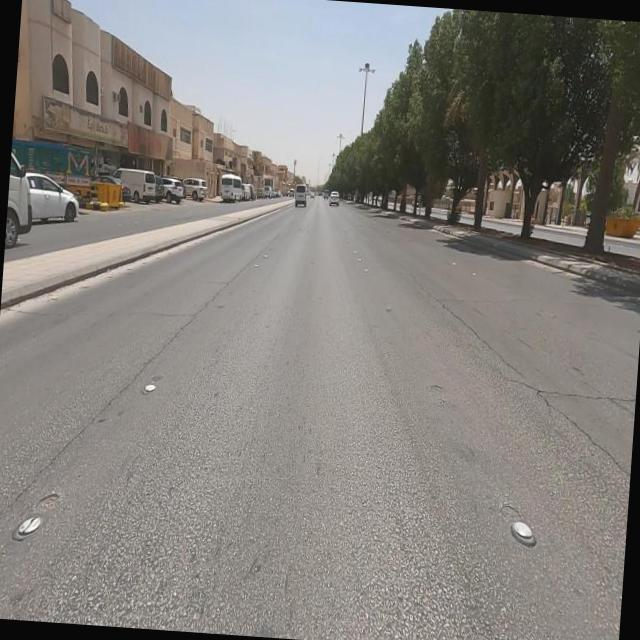debris: (9, 59, 162, 188), (96, 100, 204, 181)
